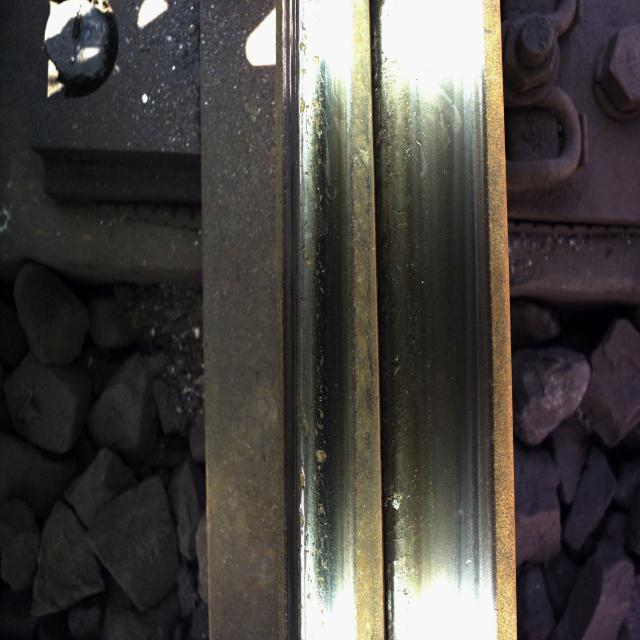crack: (292, 9, 368, 616)
normal: (390, 41, 492, 620)
